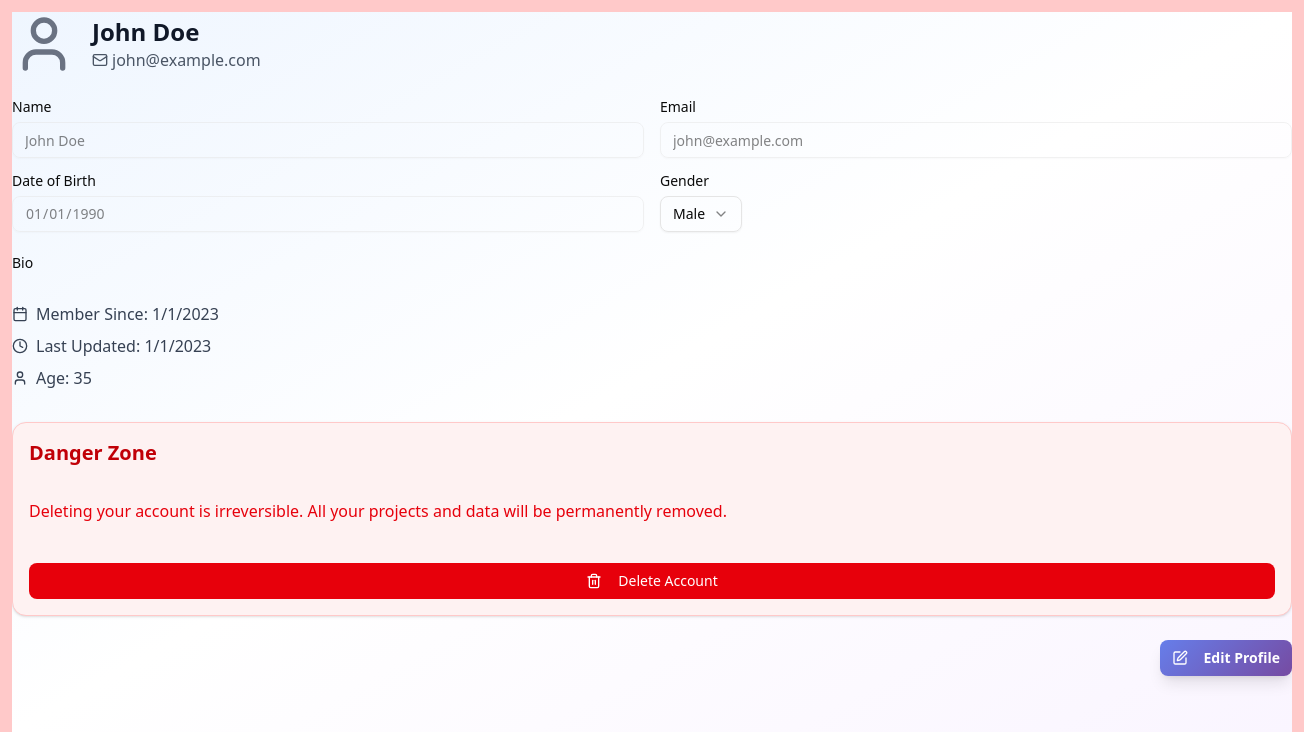
Scenario: ProfileEditForm Component › enters edit mode when edit button is clicked
The image size is (1304, 732).
Click the button "Edit Profile" at (1226, 658), box [1160,640,1292,676]
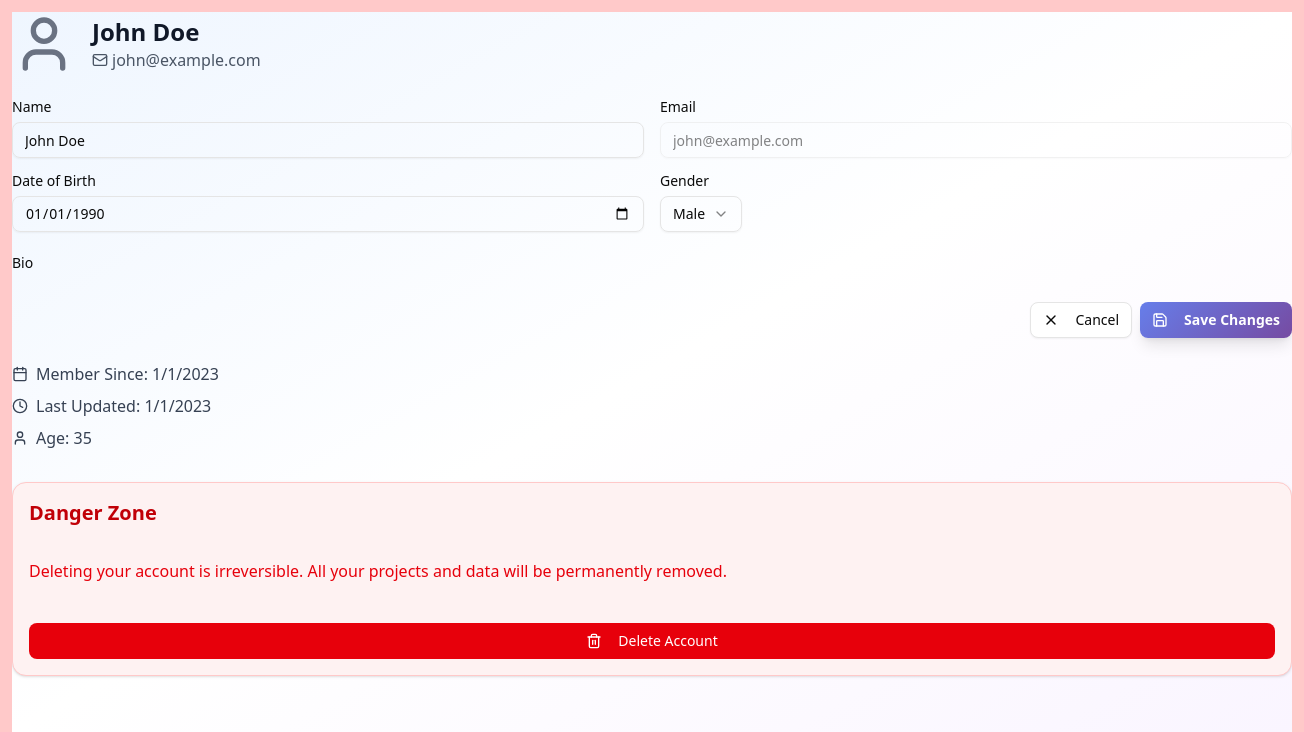
Result: the button "Save Changes" is shown at [1140,302,1292,338]
Result: the button "Cancel" is shown at [1030,302,1132,338]
